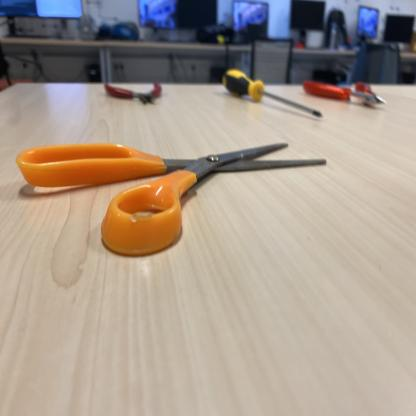scissors: (15, 142, 330, 257)
